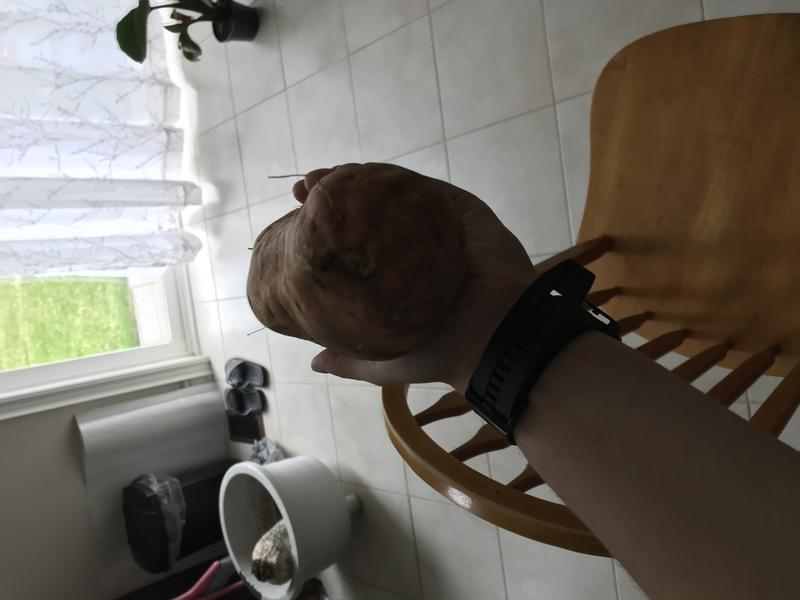sweet_potato: (236, 154, 473, 369)
